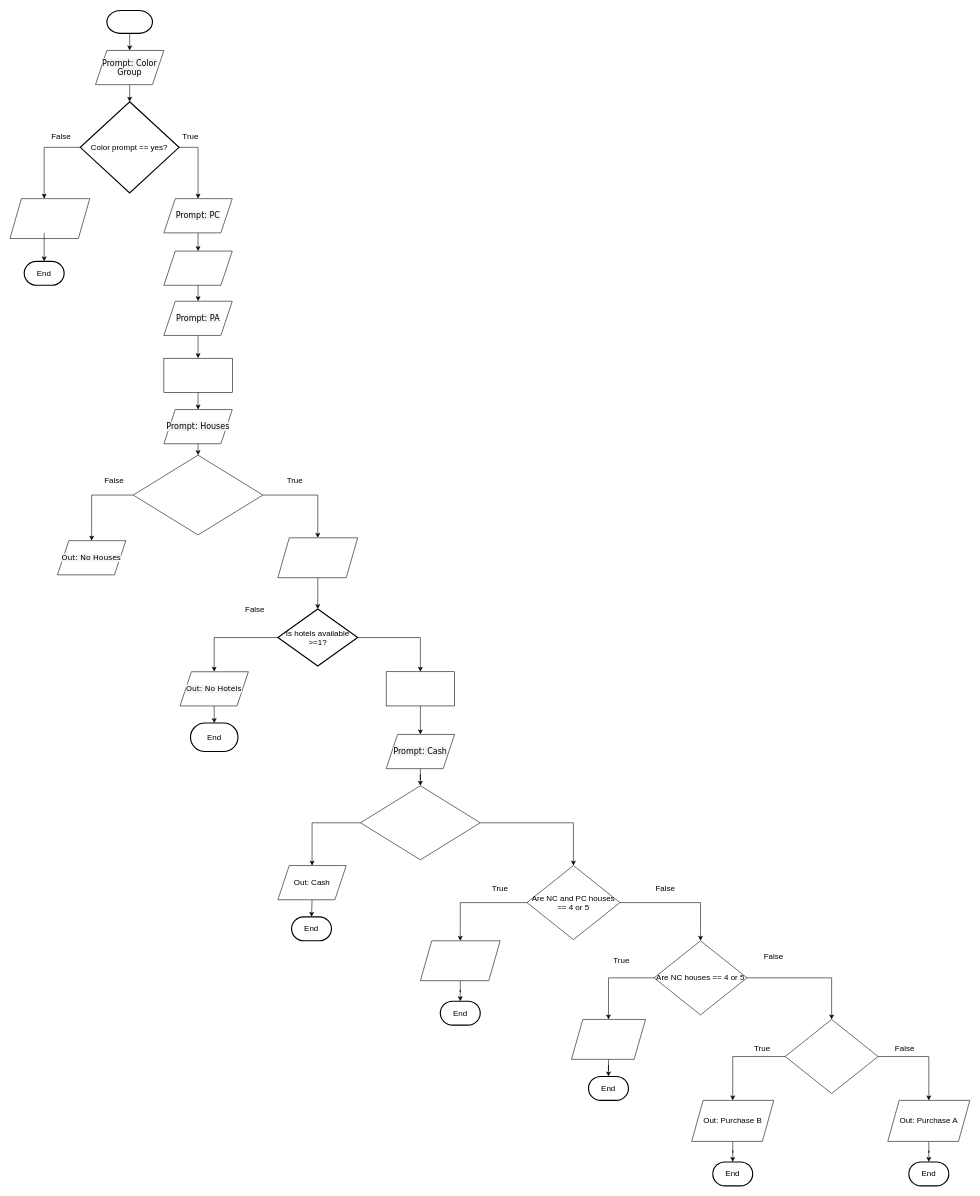
Some shapes in this 980 by 1196 pixel diagram are drawn without their labels. Here are the shapes that lost their labels. From the top down, the box of each, then its label:
(106, 10, 153, 34): Start
(9, 198, 90, 239): Out: No Properties
(163, 251, 232, 285): Prompt: NC
(163, 358, 232, 392): Calculate houses needed
(133, 455, 263, 535): Are houses needed >= houses available?
(277, 537, 358, 578): Prompt: Hotels
(386, 671, 455, 706): Calculate total cost of hotel + houses needed.
(360, 785, 480, 860): Is player cash >= total cost of hotel and hourses
(420, 940, 500, 981): Out: Purchase D
(571, 1019, 646, 1059): Out: Purchase C
(785, 1019, 878, 1094): Are PC houses == 4 or 5
